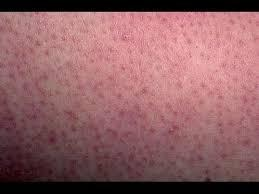Goosebumps: (0, 12, 259, 179)
